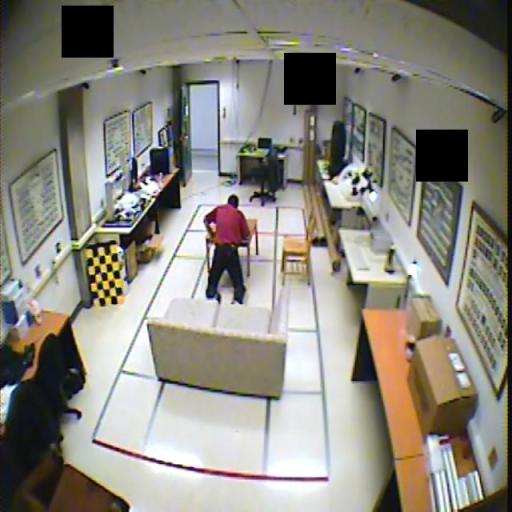Fall: (202, 192, 251, 307)
